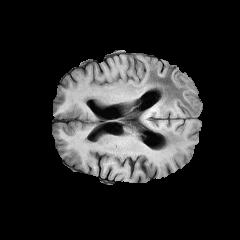glioma: (120, 66, 200, 146)
